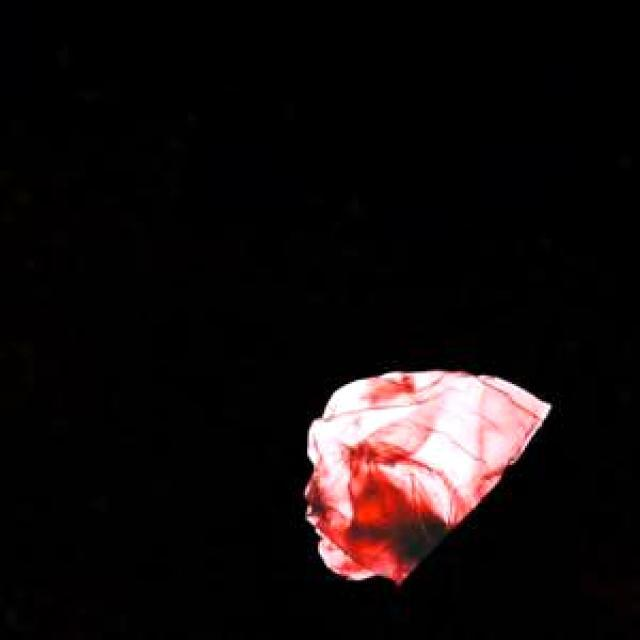Plastic_Bag: (302, 368, 547, 581)
